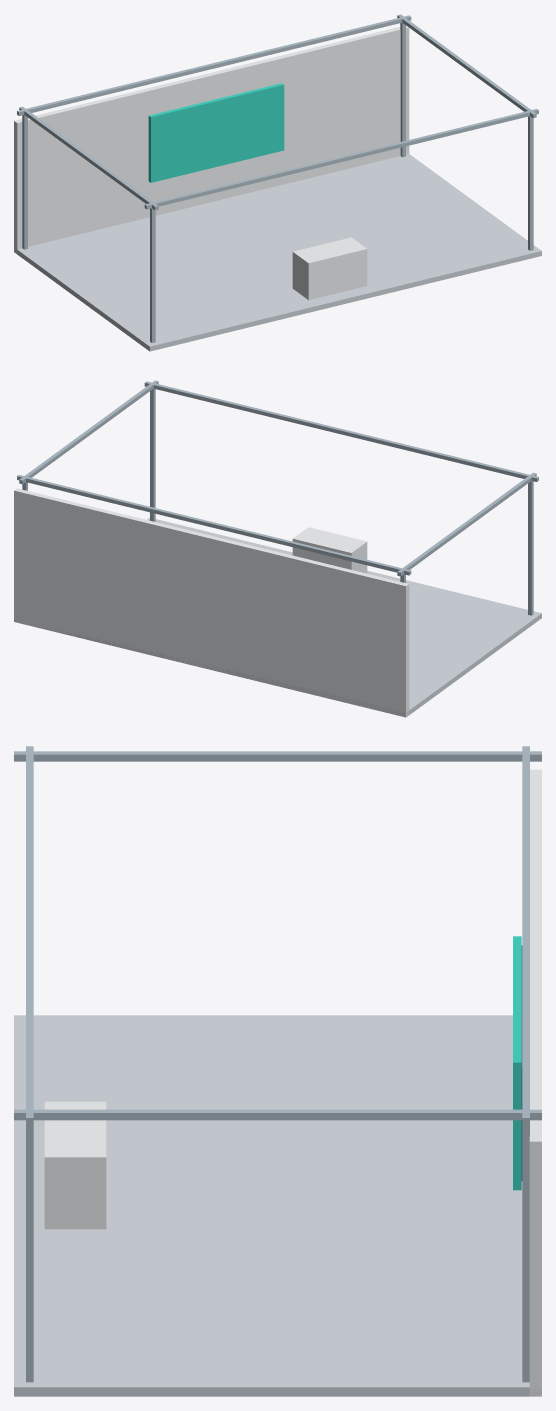
The picture shows the model from 3 angles, top to bottom: view 1: azimuth 30°, elevation 25°; view 2: azimuth 150°, elevation 25°; view 3: azimuth 270°, elevation 25°; orthographic projection. The views are drawn at different scales.
Parts seen in each view (by area): view 1: Exhibition Booth Concept; view 2: Exhibition Booth Concept; view 3: Exhibition Booth Concept.
Part boxes in pixels (<box>): Exhibition Booth Concept: <box>14,14,541,351</box>; Exhibition Booth Concept: <box>14,380,541,717</box>; Exhibition Booth Concept: <box>14,746,541,1396</box>.
Bounding box in the file's own units: 10 × 3.49 × 6.
